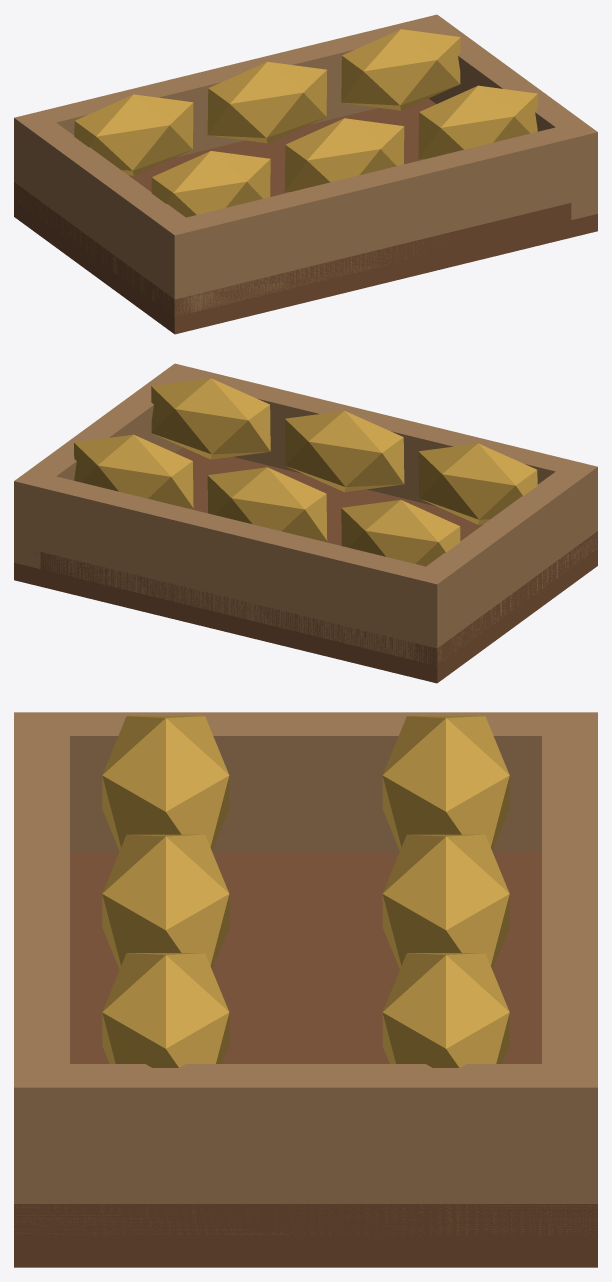
The model's file is set_lemon_bowl.glb.
3 views of the same model, one above another, from view 1: azimuth 30°, elevation 25°; view 2: azimuth 150°, elevation 25°; view 3: azimuth 270°, elevation 25° (orthographic). The views are drawn at different scales.
Parts seen in each view (by area): view 1: set_lemon_bowl; view 2: set_lemon_bowl; view 3: set_lemon_bowl.
Part boxes in pixels (x1=…): set_lemon_bowl: x1=14, y1=14, x2=597, y2=334; set_lemon_bowl: x1=14, y1=363, x2=597, y2=683; set_lemon_bowl: x1=14, y1=712, x2=597, y2=1267.
Size of the model in its own units: 0.38 by 0.115 by 0.25.
